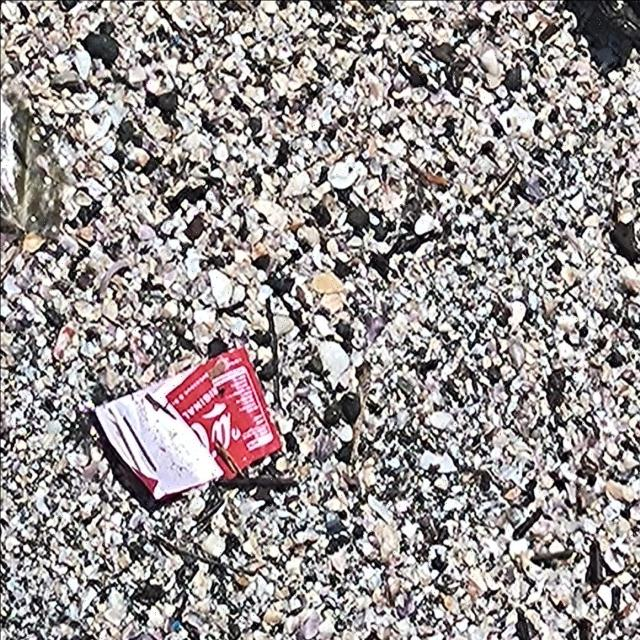plastic_waste: (93, 345, 282, 503)
